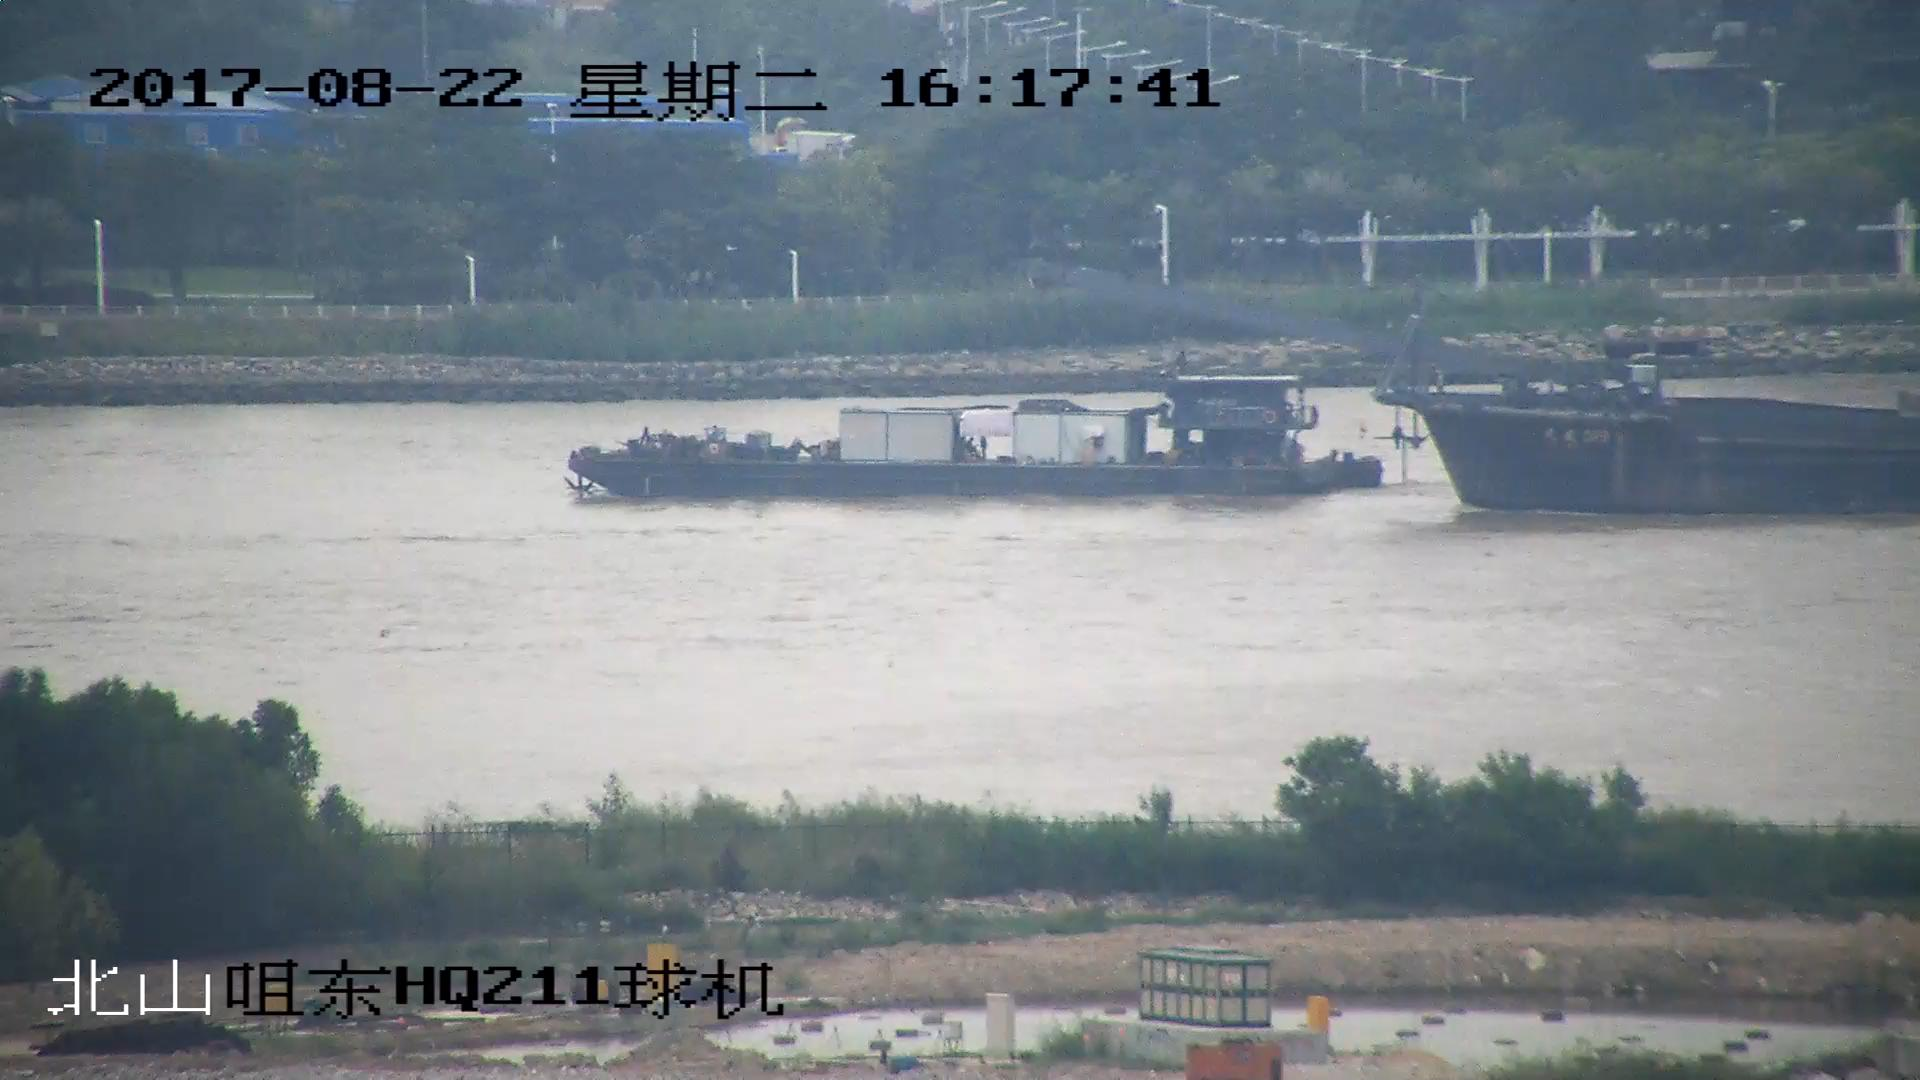bulk cargo carrier: (1040, 267, 1920, 524), (572, 376, 1384, 503)
